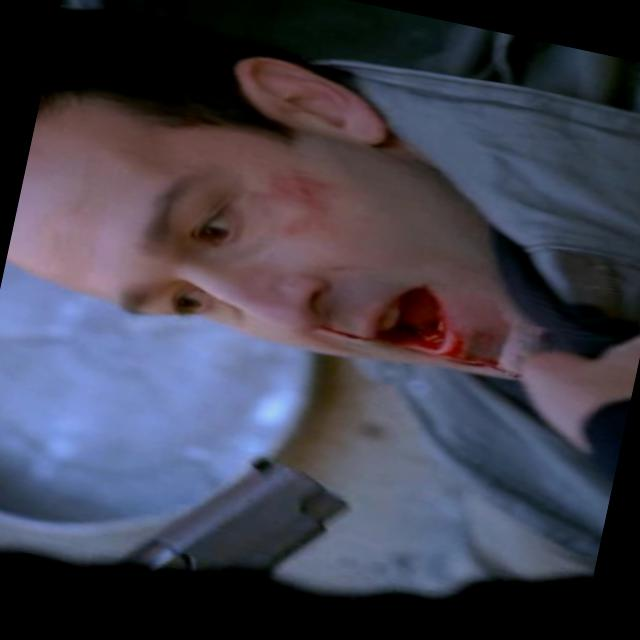handgun: (74, 426, 367, 639)
